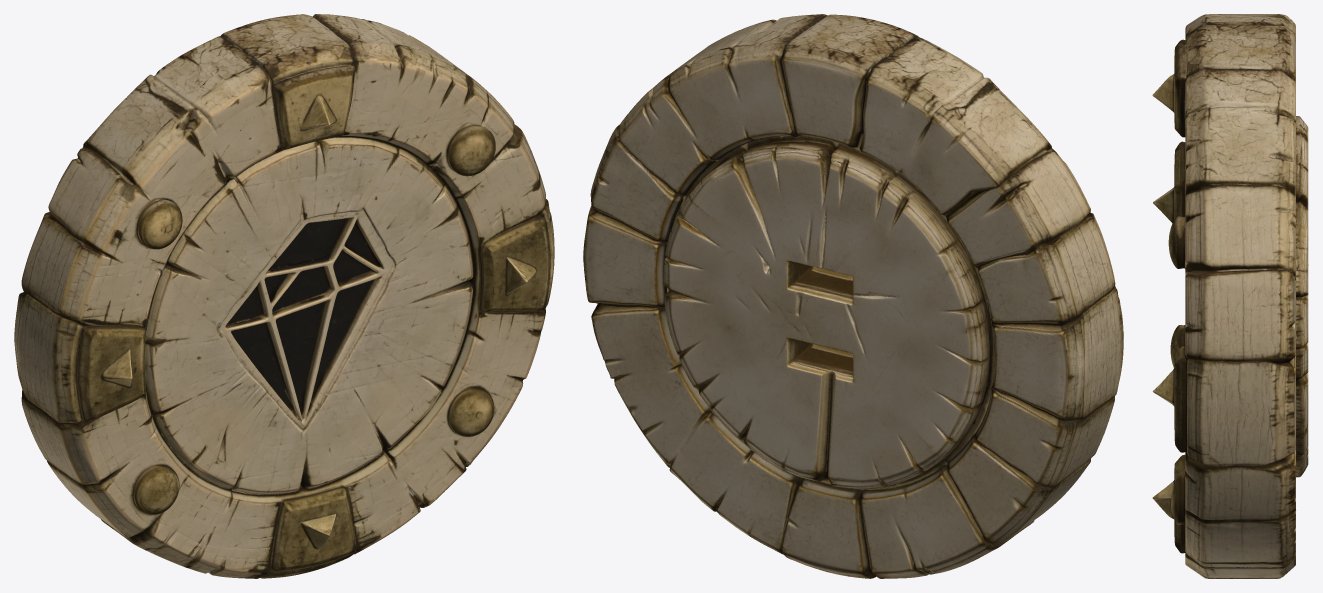
Rendered from batch2_04.glb.
3 views of the same model, side by side, from view 1: azimuth 30°, elevation 25°; view 2: azimuth 150°, elevation 25°; view 3: azimuth 270°, elevation 25° (orthographic). The views are drawn at different scales.
Bounding box in the file's own units: 1.9 × 1.9 × 0.5245.
1 material, 1 textured.
